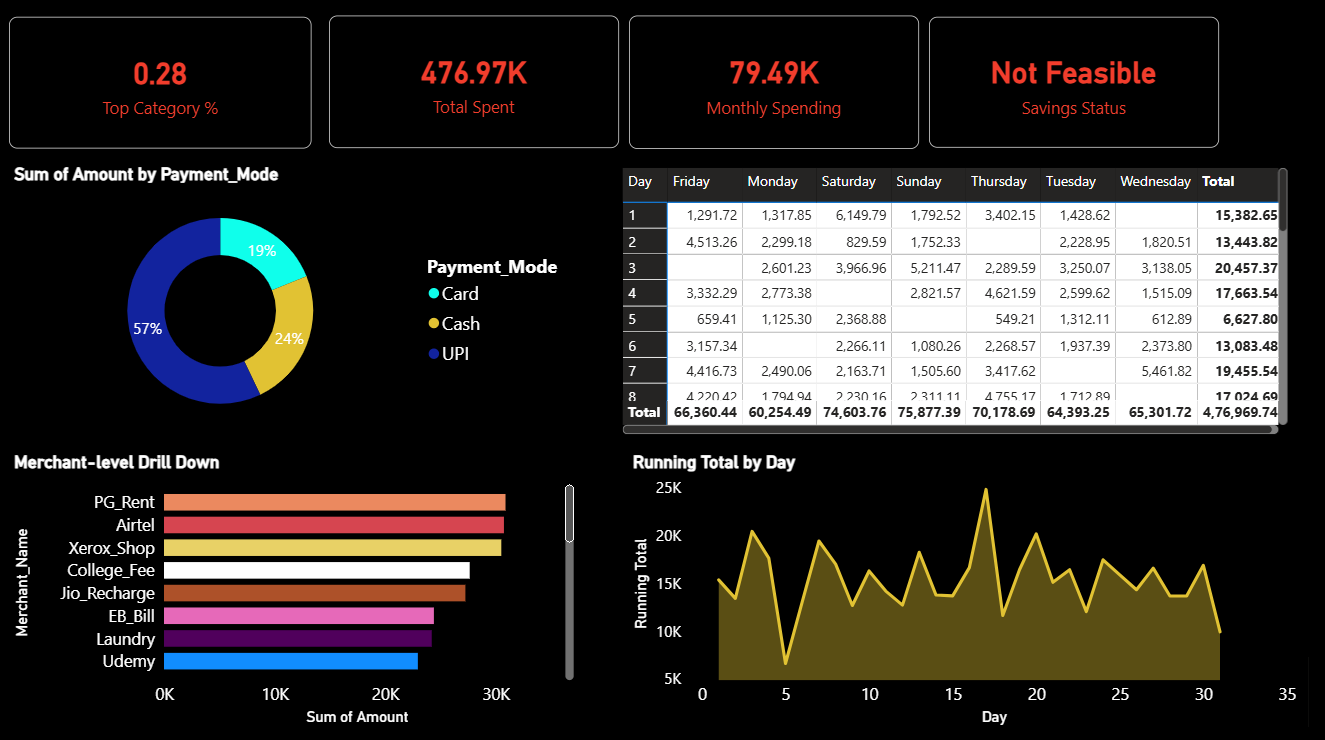

What the dashboard file says about the page in this screenshot:
{"tool":"powerbi","page":{"name":"Page 2","canvas":[1280,720],"ordinal":1},"visuals":[{"type":"card","fields":{"Values":["cleaned_transactions.Top Category %"]},"box":[10,18.5,292.2,126.9],"z":0},{"type":"card","fields":{"Values":["cleaned_transactions.Total Spent"]},"box":[318.4,16.5,279.9,127.6],"z":1000},{"type":"donutChart","fields":{"Y":["Sum(cleaned_transactions.Amount)"],"Series":["cleaned_transactions.Payment_Mode"]},"box":[10,159.6,550.2,266.5],"z":2000},{"type":"card","fields":{"Values":["cleaned_transactions.Monthly Spending"]},"box":[607.9,16.5,279.9,129],"z":3000},{"type":"card","fields":{"Values":["cleaned_transactions.Savings Status"]},"box":[897.4,17.8,279.9,126.2],"z":4000},{"type":"pivotTable","fields":{"Rows":["cleaned_transactions.Date.Variation.Date Hierarchy.Day"],"Columns":["cleaned_transactions.DayOfWeek"],"Values":["Sum(cleaned_transactions.Amount)"]},"box":[597.2,159.6,651.4,266.5],"z":5000},{"type":"clusteredBarChart","title":"Merchant-level Drill Down","fields":{"Category":["cleaned_transactions.Merchant_Name"],"Y":["Sum(cleaned_transactions.Amount)"]},"box":[10,437.6,550.2,269.4],"z":6000},{"type":"lineChart","fields":{"Category":["cleaned_transactions.Date.Variation.Date Hierarchy.Day"],"Y":["cleaned_transactions.Running Total"]},"box":[607.2,437.6,651.4,269.4],"z":7000}]}

Visuals, with their boxes in screenshot pixels (x1, y1, x2, y2), scaled from the page's 1280x720 canvas onto the 1325x740 screenshot:
card - cleaned_transactions.Top Category %: <bbox>10, 19, 313, 149</bbox>
card - cleaned_transactions.Total Spent: <bbox>330, 17, 619, 148</bbox>
donutChart - Sum(cleaned_transactions.Amount) x cleaned_transactions.Payment_Mode: <bbox>10, 164, 580, 438</bbox>
card - cleaned_transactions.Monthly Spending: <bbox>629, 17, 919, 150</bbox>
card - cleaned_transactions.Savings Status: <bbox>929, 18, 1219, 148</bbox>
pivotTable - cleaned_transactions.Date.Variation.Date Hierarchy.Day x cleaned_transactions.DayOfWeek: <bbox>618, 164, 1292, 438</bbox>
"Merchant-level Drill Down" clusteredBarChart: <bbox>10, 450, 580, 727</bbox>
lineChart - cleaned_transactions.Date.Variation.Date Hierarchy.Day x cleaned_transactions.Running Total: <bbox>629, 450, 1303, 727</bbox>
